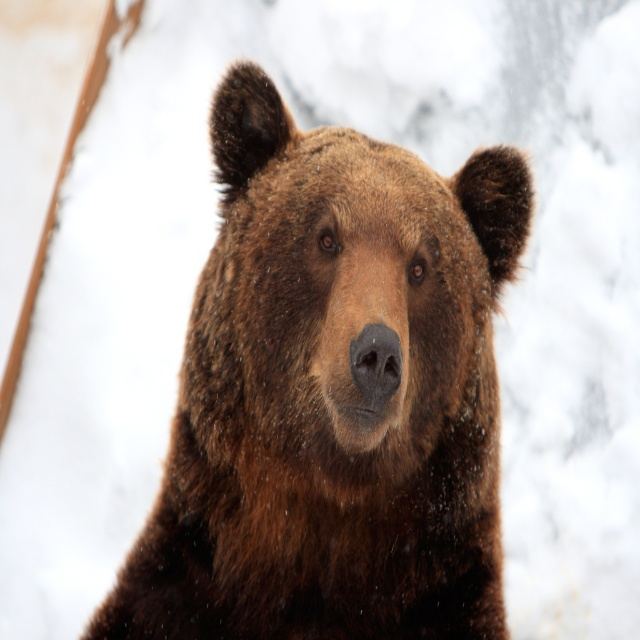Brown bear: (75, 56, 535, 639)
